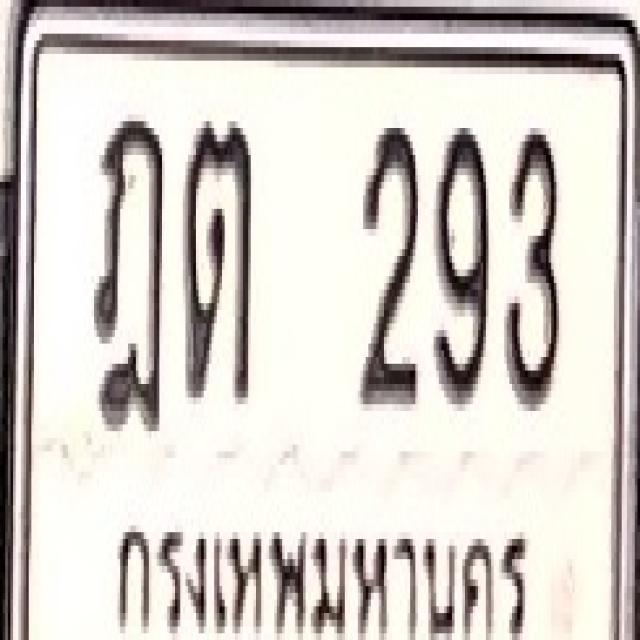-: (90, 111, 163, 435), (182, 111, 252, 401)
2: (358, 121, 418, 404)
3: (503, 121, 560, 411)
9: (431, 121, 489, 404)
BKK: (100, 495, 543, 640)
